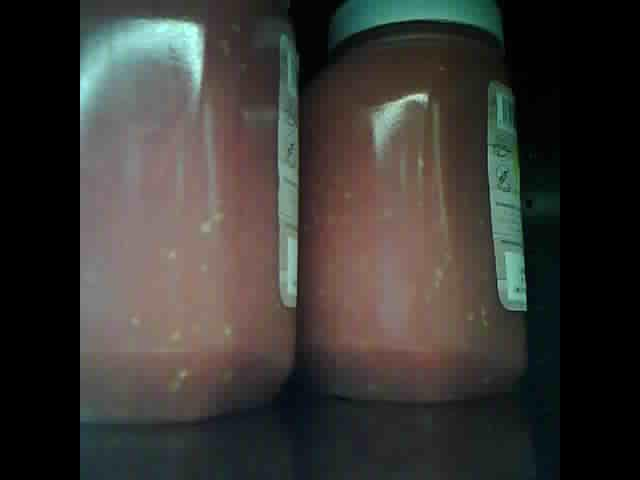tomate: (302, 3, 533, 401), (82, 5, 297, 425)
